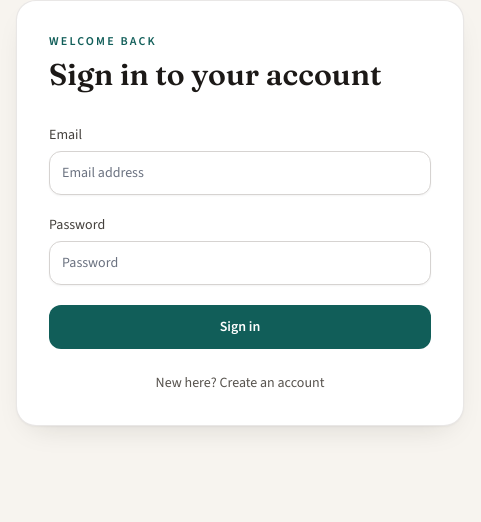
Test case: Login › shows error message on login failure
This screenshot has width=481, height=522.
Type "test@example.com" into the field with placeholder "Email address". click: (240, 173)
box: [49, 151, 431, 195]
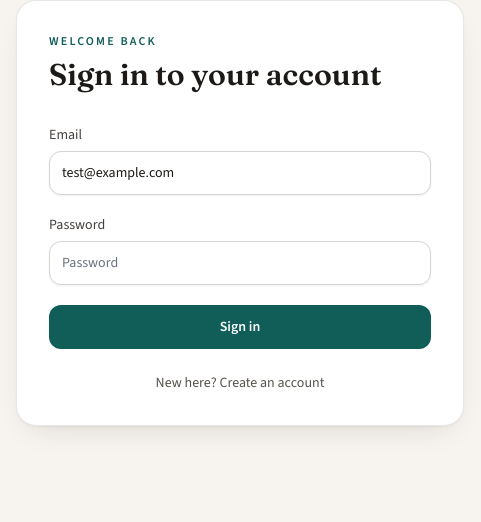
Type "password123" into the password field with placeholder "Password". click: (240, 263)
box: [49, 241, 431, 285]
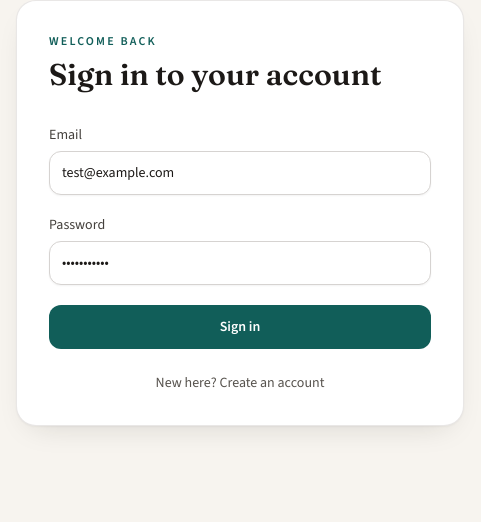
Click the button "Sign in". click: (240, 327)
box: [49, 305, 431, 349]
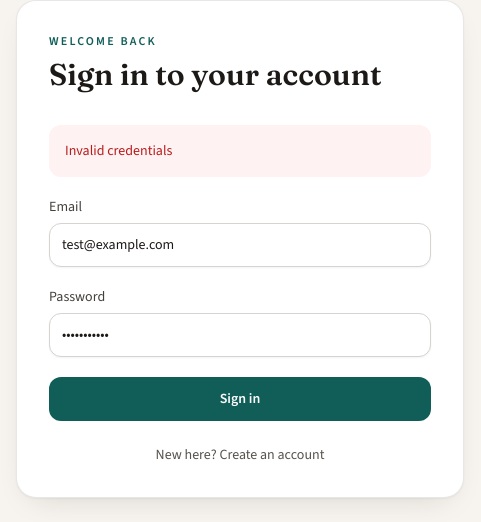
Check: the text "Invalid credentials" is shown, box [65, 141, 172, 160]
